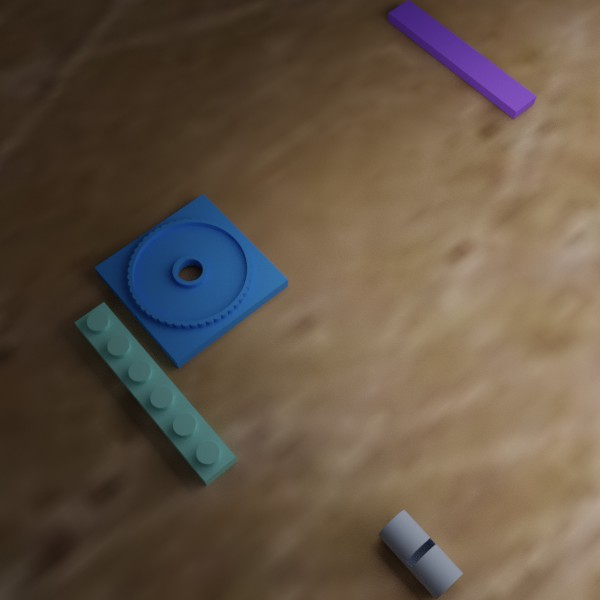lego: (94, 193, 288, 368), (74, 301, 237, 486), (387, 0, 536, 119), (378, 509, 463, 600)
